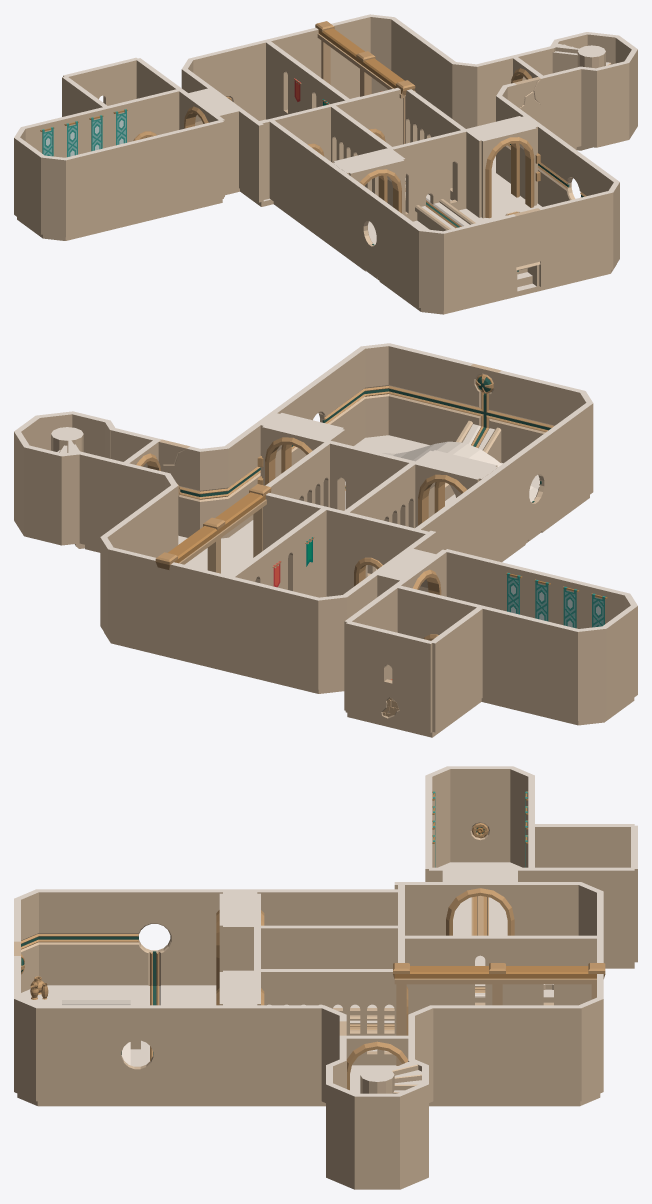
The model's file is Abbey_1.glb.
The picture shows the model from 3 angles, top to bottom: view 1: azimuth 30°, elevation 25°; view 2: azimuth 150°, elevation 25°; view 3: azimuth 270°, elevation 25°; orthographic projection. The views are drawn at different scales.
Parts seen in each view (by area): view 1: mergedBlocks(Clone); view 2: mergedBlocks(Clone); view 3: mergedBlocks(Clone).
Boxes of the visible parts, box(x1,y1,x2,y2) form: mergedBlocks(Clone): box(14, 14, 637, 314); mergedBlocks(Clone): box(14, 343, 637, 737); mergedBlocks(Clone): box(14, 766, 637, 1189).
Bounding box in the file's own units: 68.4 × 10.05 × 54.6.
